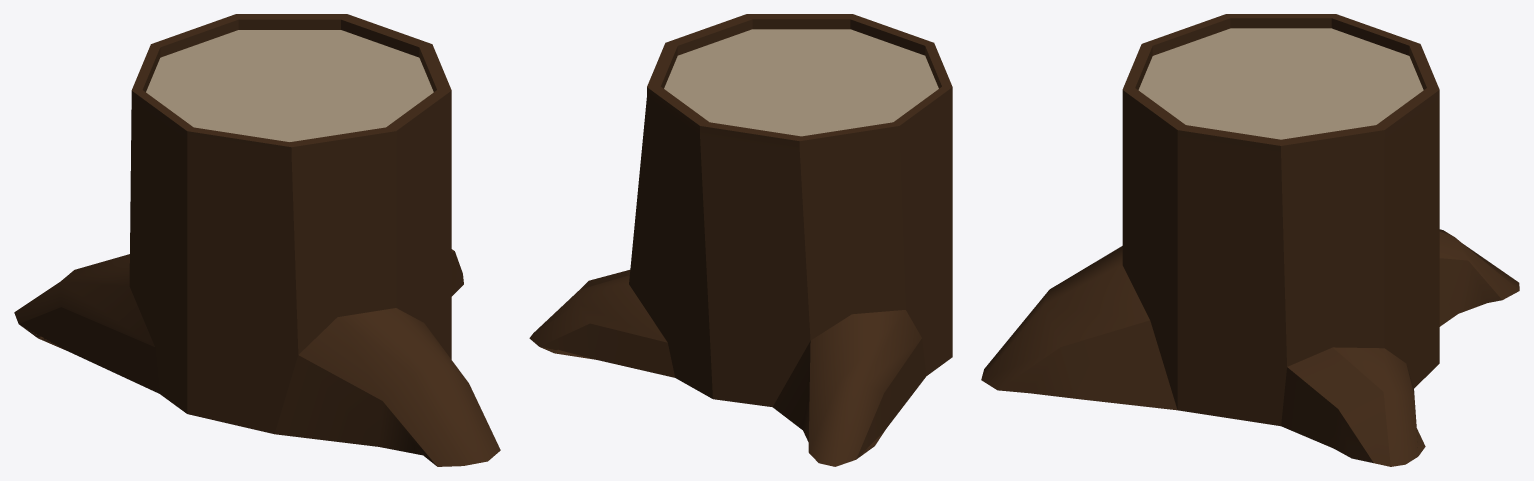
File: stump.fbx
3 renders of one model, left to right at view 1: azimuth 30°, elevation 25°; view 2: azimuth 150°, elevation 25°; view 3: azimuth 270°, elevation 25°, orthographic. The views are drawn at different scales.
Parts seen in each view (by area): view 1: pCylinder1; view 2: pCylinder1; view 3: pCylinder1.
Boxes of the visible parts, x1,y1,x2,y2 form: pCylinder1: (14,14,500,466); pCylinder1: (529,14,952,466); pCylinder1: (981,14,1519,466).
Bounding box in the file's own units: 2.77 × 1.93 × 3.34.
